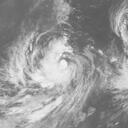cyclone: (27, 37, 79, 89)
